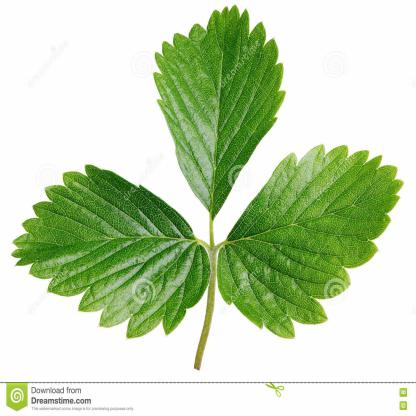Strawberry leaf: (213, 142, 410, 352), (7, 157, 209, 336), (151, 2, 287, 213)
